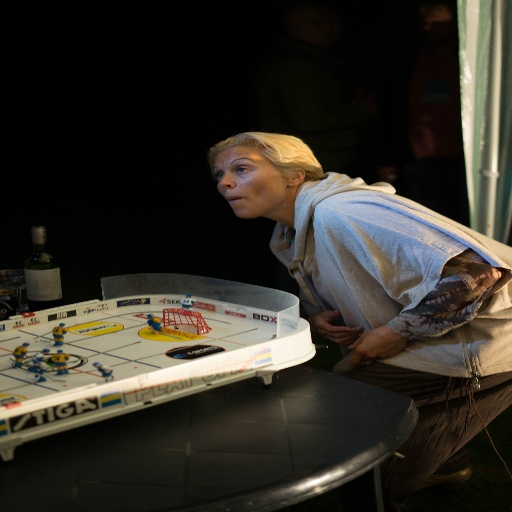hand: (351, 322, 424, 365), (313, 310, 368, 344)
